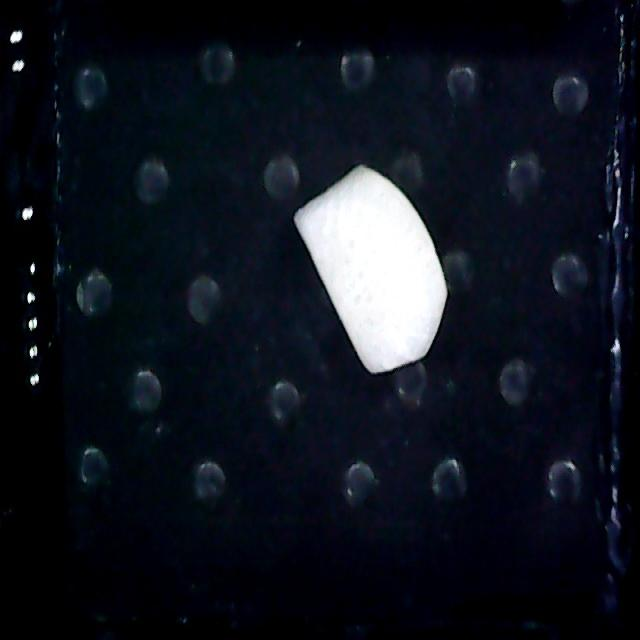-Kitchen waste - white radish-: (293, 165, 449, 375)
